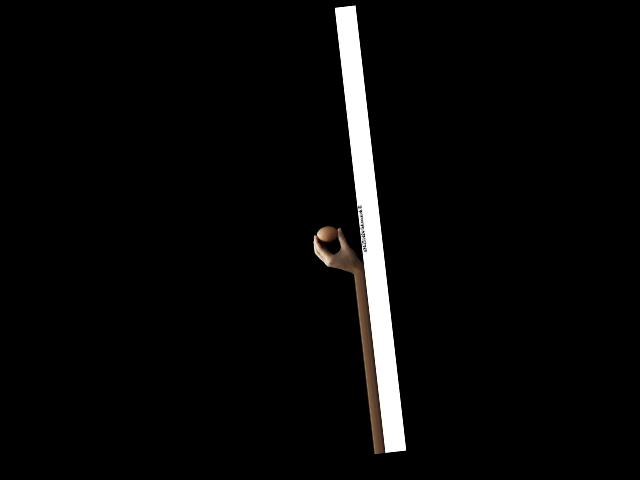egg: (315, 225, 338, 243)
